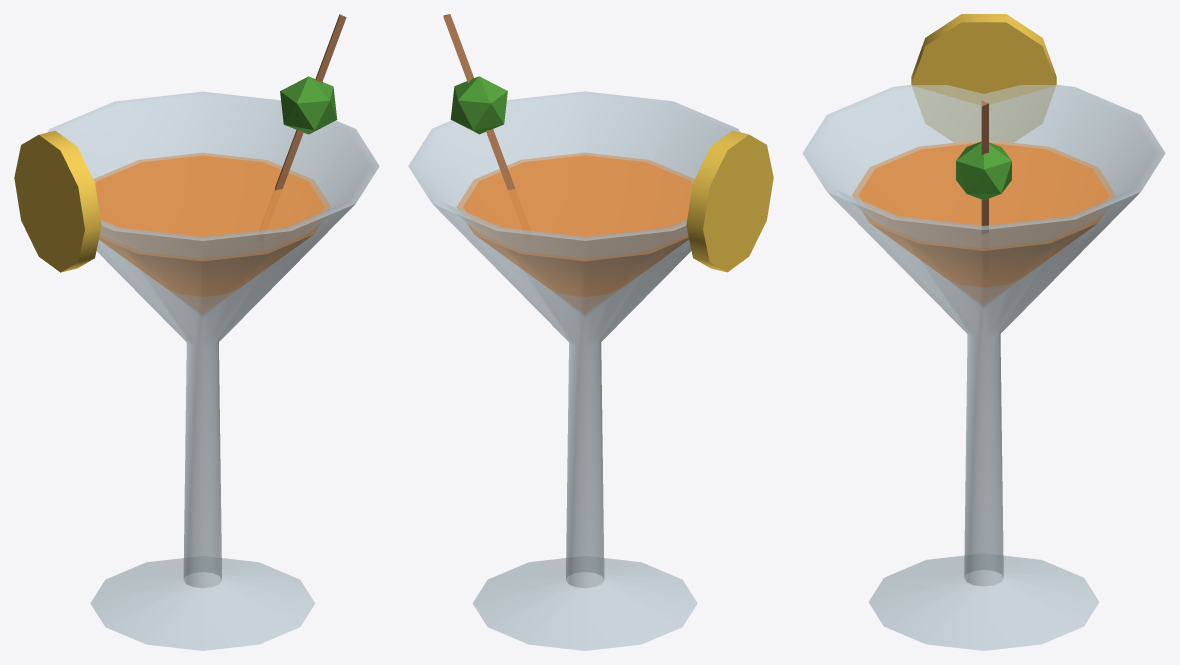
File: cocktail.glb
3 renders of one model, left to right at view 1: azimuth 30°, elevation 25°; view 2: azimuth 150°, elevation 25°; view 3: azimuth 270°, elevation 25°, orthographic. The views are drawn at different scales.
Visible parts, largest first — view 1: cocktail; view 2: cocktail; view 3: cocktail.
Boxes of the visible parts, x1,y1,x2,y2 form: cocktail: (14,14,379,650); cocktail: (408,14,773,650); cocktail: (802,14,1165,650).
Bounding box in the file's own units: 0.11 × 0.1905 × 0.11.
